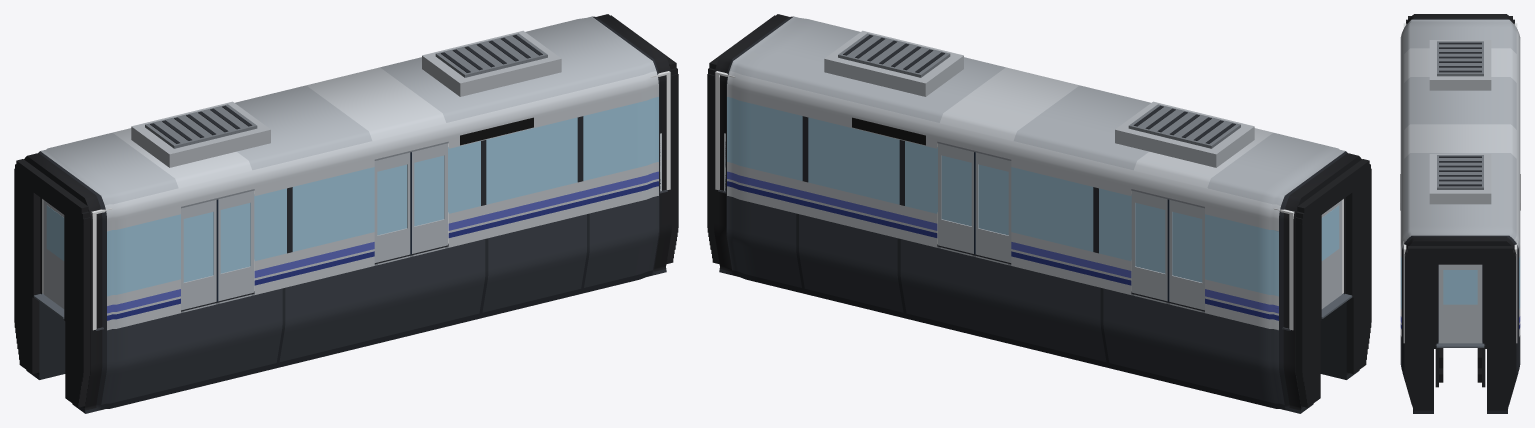
File: innovia_car.obj
The picture shows the model from 3 angles, left to right: view 1: azimuth 30°, elevation 25°; view 2: azimuth 150°, elevation 25°; view 3: azimuth 270°, elevation 25°; orthographic projection. The views are drawn at different scales.
Visible parts, largest first — view 1: SHELL, SHELL_diaphragm, SHELL_roof, EXTERNAL_DOOR_4_CG_DR1_TOGGLE_TL_-0.74_X, EXTERNAL_DOOR_10_CG_DR2_TOGGLE_TL_-0.74_X, EXTERNAL_DOOR_5_CG_DR1_TOGGLE_TL_0.74_X, EXTERNAL_DOOR_11_CG_DR2_TOGGLE_TL_0.74_X, CONNECTING_DOOR_1_CG_CR_TOGGLE_TL_0.98_Z, SHELL_end, SHELL_sign; view 2: SHELL, SHELL_diaphragm, SHELL_roof, EXTERNAL_DOOR_7_CG_DL1_TOGGLE_TL_-0.74_X, EXTERNAL_DOOR_13_CG_DL2_TOGGLE_TL_-0.74_X, EXTERNAL_DOOR_8_CG_DL1_TOGGLE_TL_0.74_X, EXTERNAL_DOOR_14_CG_DL2_TOGGLE_TL_0.74_X, CONNECTING_DOOR_1_CG_CR_TOGGLE_TL_0.98_Z, SHELL_end, SHELL_sign; view 3: SHELL, SHELL_diaphragm, SHELL_roof, CONNECTING_DOOR_2_CG_CF_TOGGLE_TL_0.98_Z, BOGEY_FRONT, SHELL_end, SHELL_gangway, SHELL_floor.
Boxes of the visible parts, left/top/right/bottom form: SHELL: left=24, top=14, right=671, bottom=413; SHELL_diaphragm: left=14, top=15, right=678, bottom=407; SHELL_roof: left=131, top=30, right=561, bottom=167; EXTERNAL_DOOR_4_CG_DR1_TOGGLE_TL_-0.74_X: left=181, top=199, right=218, bottom=310; EXTERNAL_DOOR_10_CG_DR2_TOGGLE_TL_-0.74_X: left=374, top=152, right=411, bottom=262; EXTERNAL_DOOR_5_CG_DR1_TOGGLE_TL_0.74_X: left=218, top=190, right=254, bottom=301; EXTERNAL_DOOR_11_CG_DR2_TOGGLE_TL_0.74_X: left=412, top=143, right=447, bottom=253; CONNECTING_DOOR_1_CG_CR_TOGGLE_TL_0.98_Z: left=44, top=200, right=64, bottom=308; SHELL_end: left=42, top=71, right=670, bottom=330; SHELL_sign: left=460, top=117, right=533, bottom=145; SHELL: left=714, top=14, right=1361, bottom=413; SHELL_diaphragm: left=707, top=15, right=1371, bottom=407; SHELL_roof: left=824, top=30, right=1254, bottom=167; EXTERNAL_DOOR_7_CG_DL1_TOGGLE_TL_-0.74_X: left=1167, top=199, right=1204, bottom=310; EXTERNAL_DOOR_13_CG_DL2_TOGGLE_TL_-0.74_X: left=974, top=152, right=1011, bottom=262; EXTERNAL_DOOR_8_CG_DL1_TOGGLE_TL_0.74_X: left=1131, top=190, right=1167, bottom=301; EXTERNAL_DOOR_14_CG_DL2_TOGGLE_TL_0.74_X: left=938, top=143, right=973, bottom=253; CONNECTING_DOOR_1_CG_CR_TOGGLE_TL_0.98_Z: left=1321, top=200, right=1341, bottom=308; SHELL_end: left=715, top=71, right=1343, bottom=330; SHELL_sign: left=852, top=117, right=925, bottom=145; SHELL: left=1400, top=14, right=1520, bottom=413; SHELL_diaphragm: left=1405, top=16, right=1515, bottom=410; SHELL_roof: left=1429, top=40, right=1491, bottom=204; CONNECTING_DOOR_2_CG_CF_TOGGLE_TL_0.98_Z: left=1439, top=264, right=1481, bottom=343; BOGEY_FRONT: left=1435, top=346, right=1485, bottom=387; SHELL_end: left=1403, top=23, right=1517, bottom=343; SHELL_gangway: left=1436, top=341, right=1484, bottom=347; SHELL_floor: left=1438, top=264, right=1482, bottom=341.
Size of the model in its own units: 12.92 by 4.81 by 2.82.
1 material, 1 textured.
